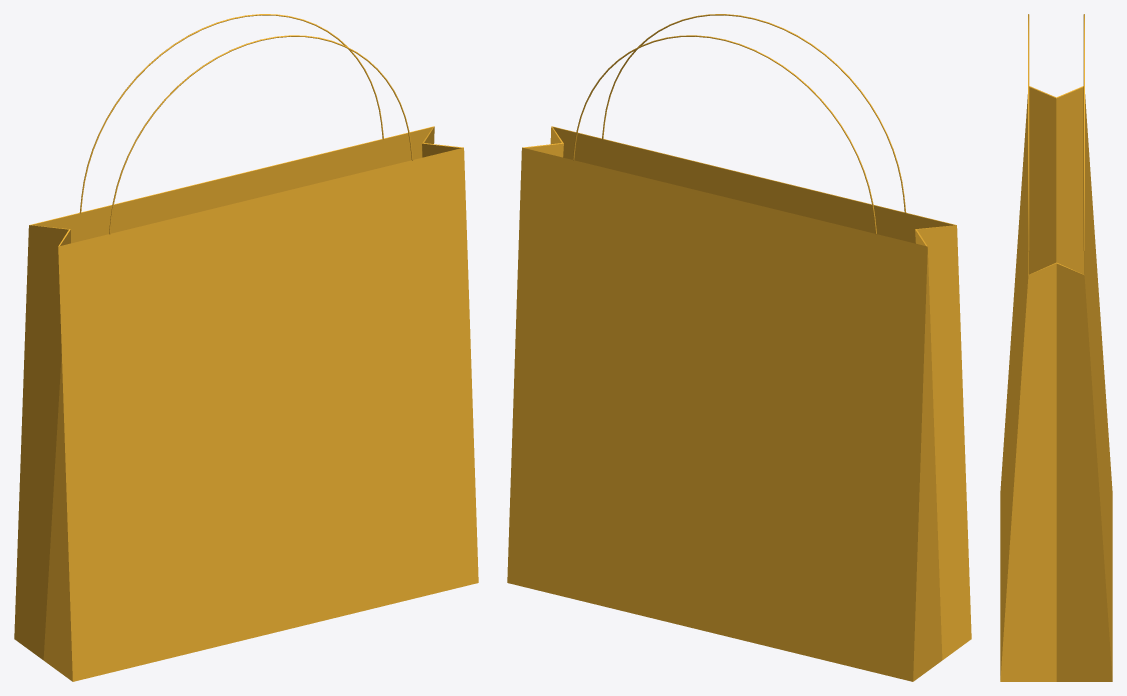
Rendered from paper_bag.glb.
The picture shows the model from 3 angles, left to right: view 1: azimuth 30°, elevation 25°; view 2: azimuth 150°, elevation 25°; view 3: azimuth 270°, elevation 25°; orthographic projection. The views are drawn at different scales.
Parts seen in each view (by area): view 1: Cylinder; view 2: Cylinder; view 3: Cylinder.
Part boxes in pixels (<box>): Cylinder: <box>14,14,478,681</box>; Cylinder: <box>507,14,971,681</box>; Cylinder: <box>1000,14,1112,681</box>.
Bounding box in the file's own units: 8 × 10.97 × 2.
